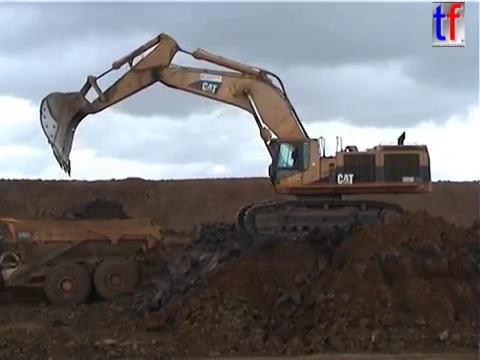excavator: (36, 30, 434, 242)
truck: (1, 213, 164, 306)
